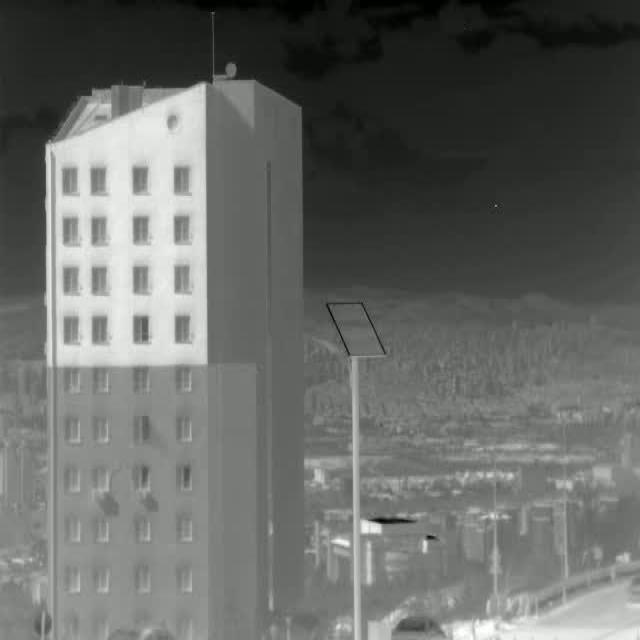Car: (388, 616, 449, 640), (624, 575, 640, 605)
